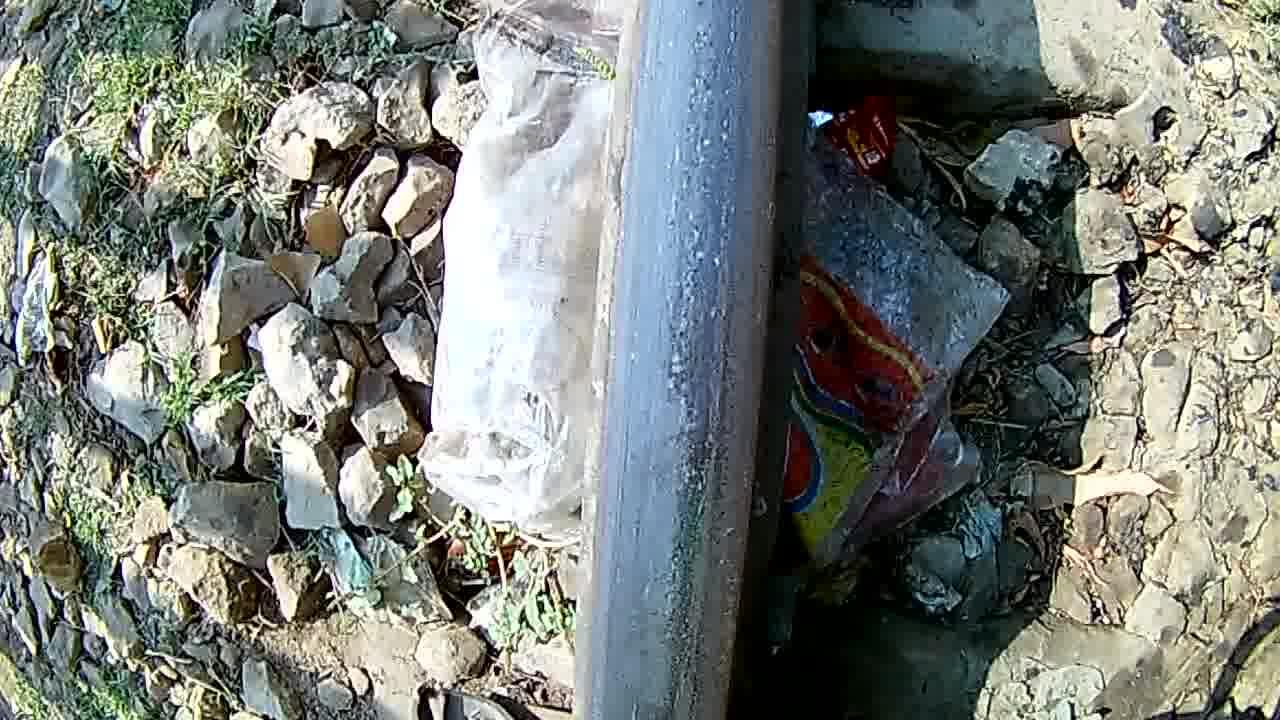clip_missing: (614, 4, 764, 720)
